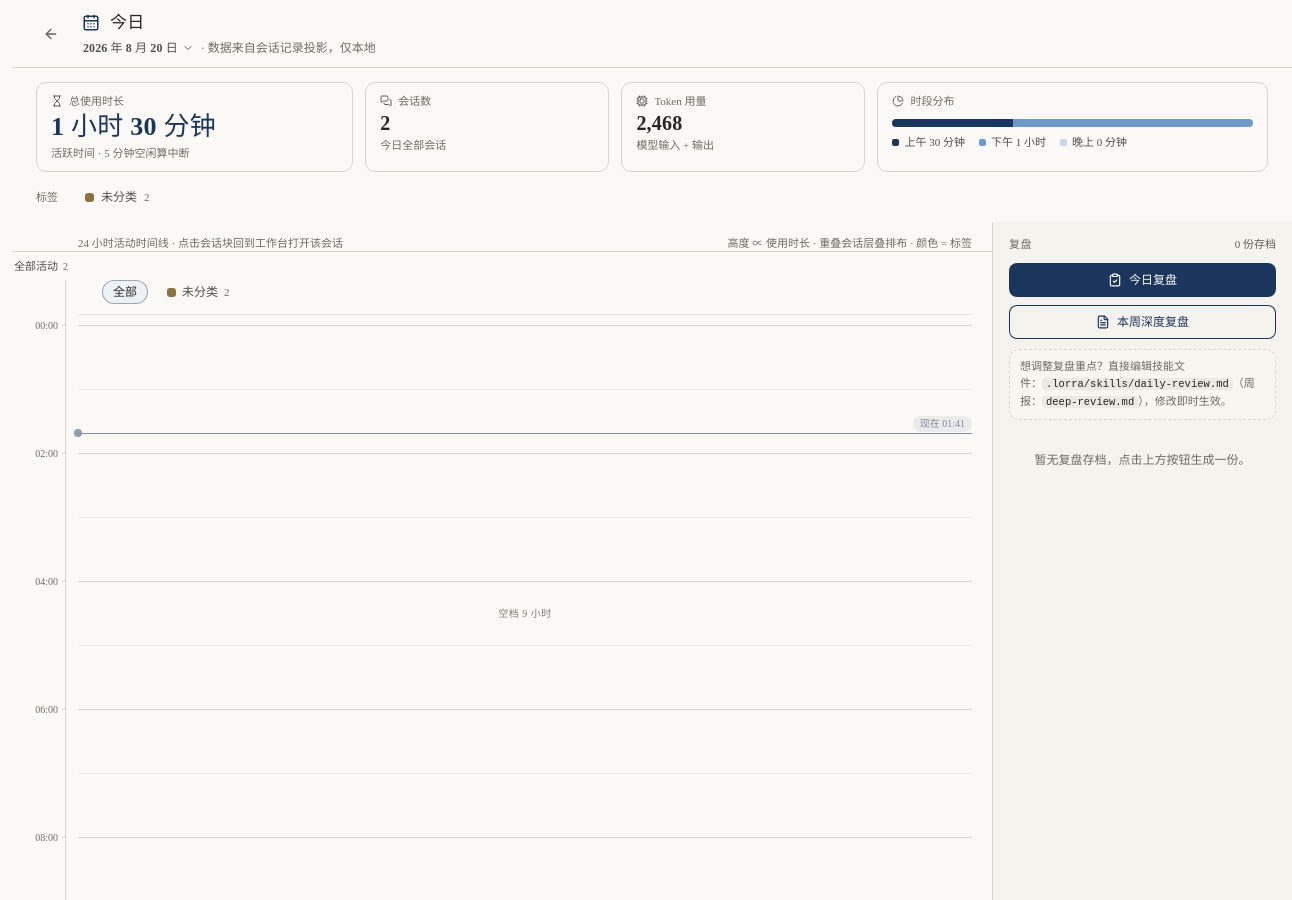
Requirement: 生成失败与无模型退化 › 复审 #N2 退化:generate 返回 review-timed-out → 提示「生成超时」类文案 + 重试指引,不出现配置模型引导
Click the button "今日复盘".
click(1142, 280)  # box [1009, 262, 1276, 296]
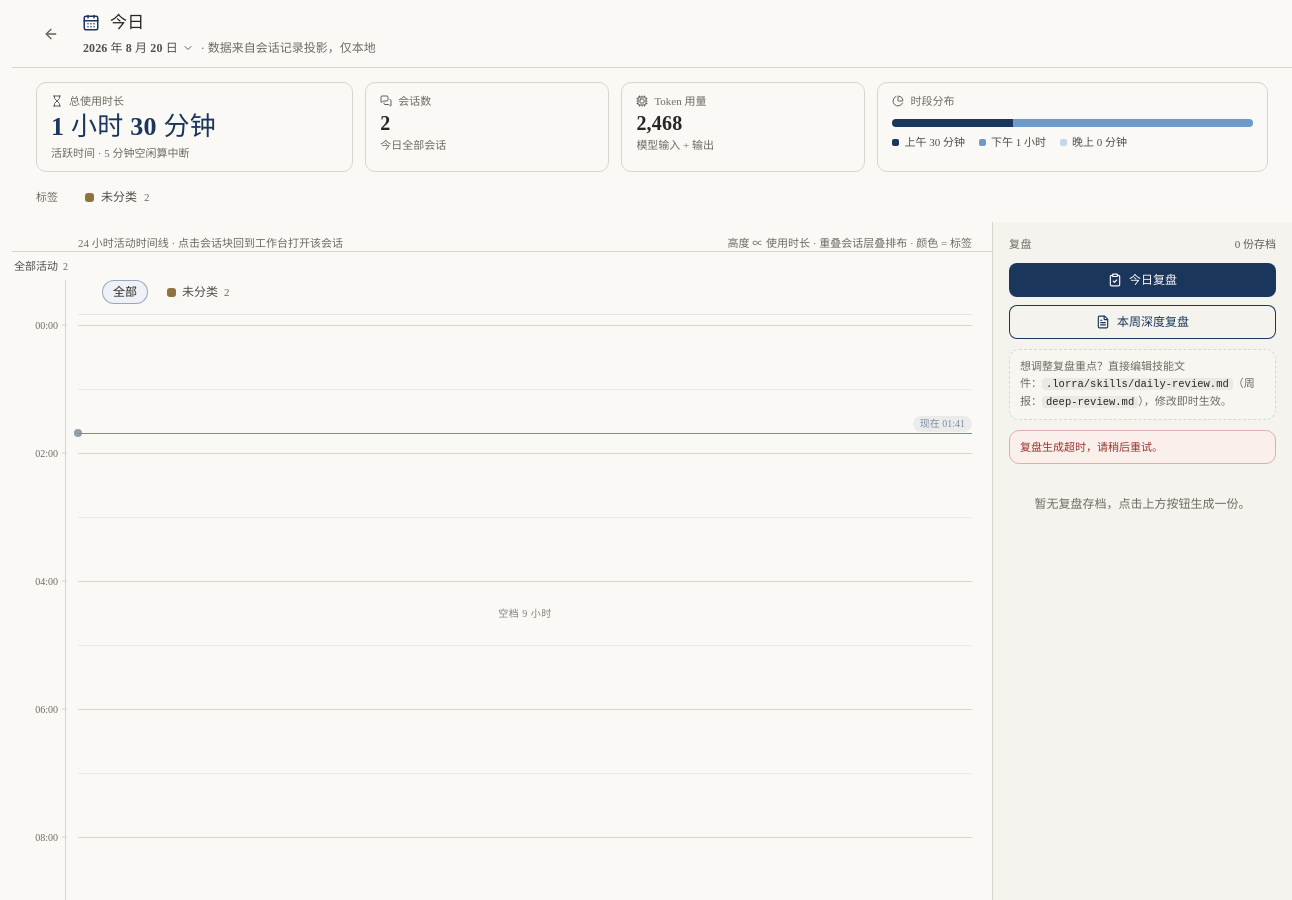
Expected: the message with test id "review-error" shows "超时", [1009, 430, 1276, 464]
Expected: the message with test id "review-error" shows "重试", [1009, 430, 1276, 464]
